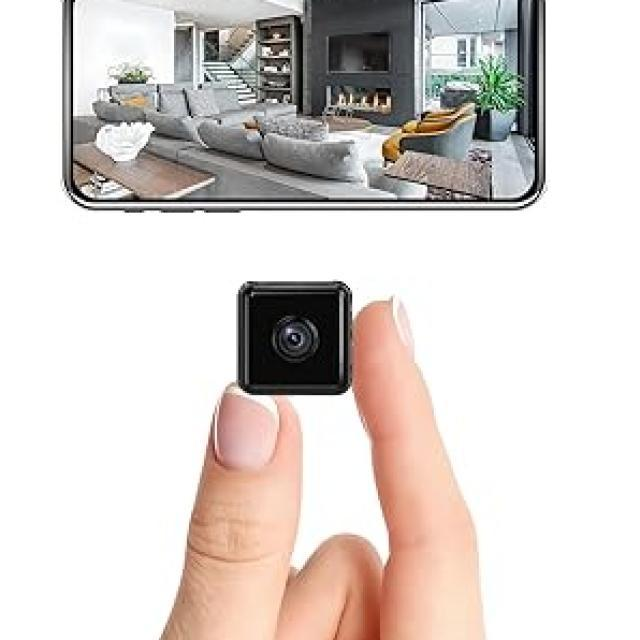hidden camera: (237, 286, 354, 391)
